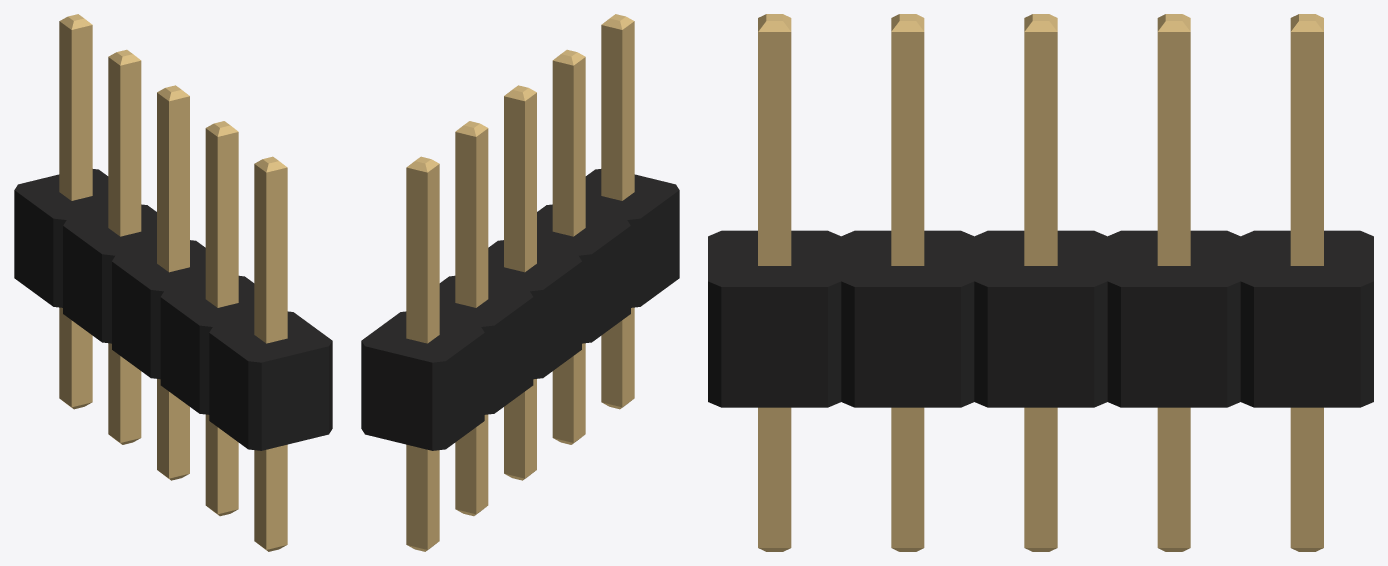
The model's file is PinHeader_1x05_P2.00mm_Vertical.glb.
The picture shows the model from 3 angles, left to right: view 1: azimuth 30°, elevation 25°; view 2: azimuth 150°, elevation 25°; view 3: azimuth 270°, elevation 25°; orthographic projection. The views are drawn at different scales.
Visible parts, largest first — view 1: =>[0:1:1:3]; view 2: =>[0:1:1:3]; view 3: =>[0:1:1:3].
Boxes of the visible parts, box(x1,y1,x2,y2) form: =>[0:1:1:3]: box(14, 14, 332, 551); =>[0:1:1:3]: box(361, 14, 679, 551); =>[0:1:1:3]: box(708, 14, 1373, 551).
Bounding box in the file's own units: 0.002 × 0.0088 × 0.01.
